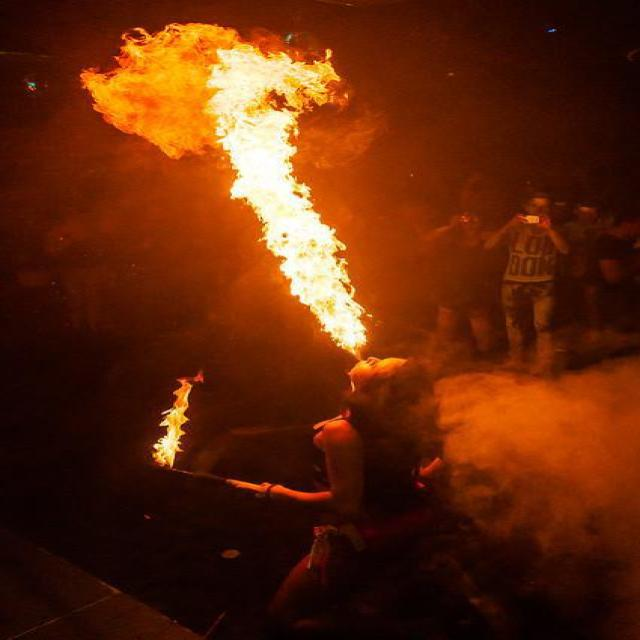fire: (52, 18, 380, 353), (143, 365, 206, 477)
